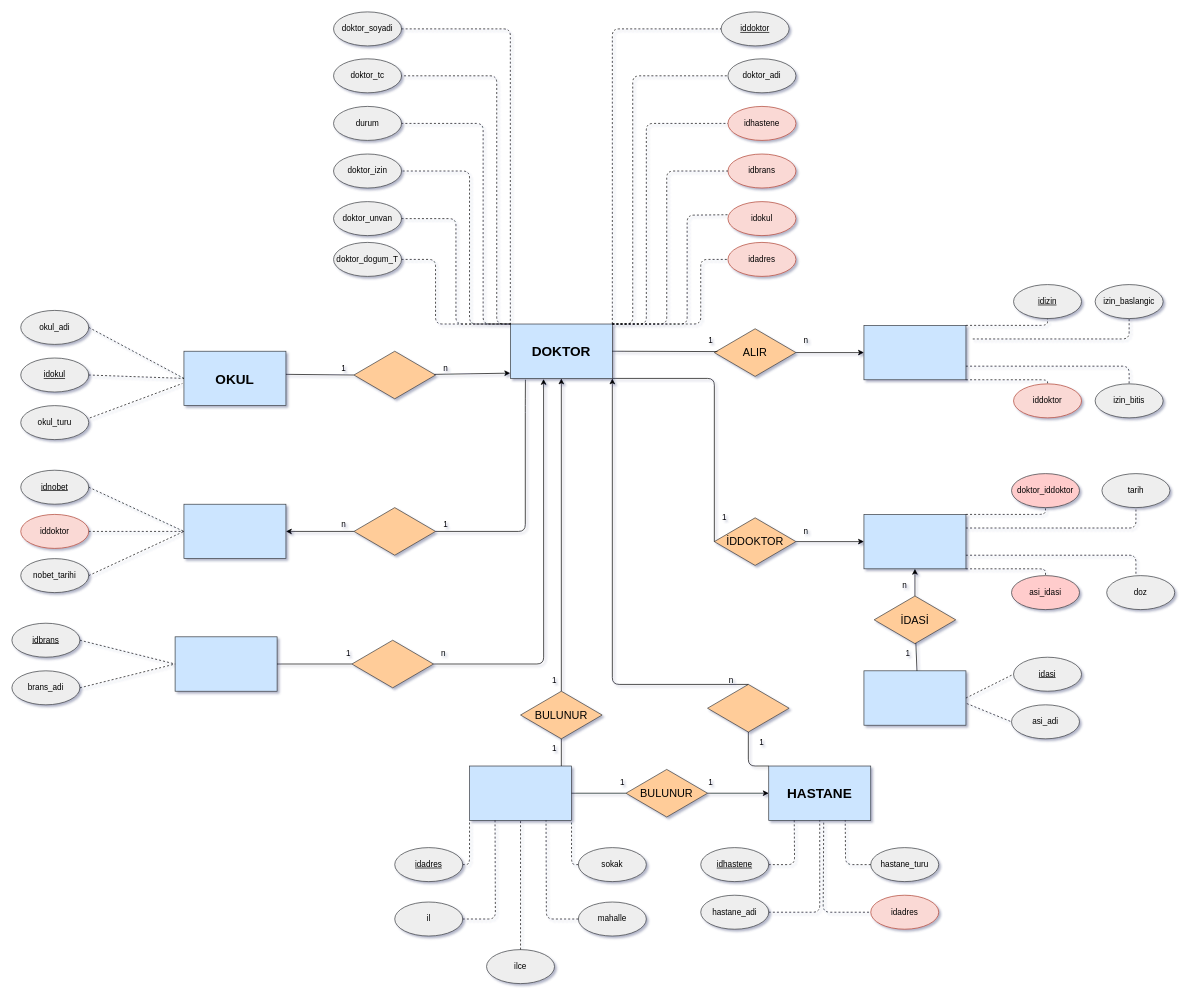
Some shapes in this 1191 by 1000 pixel diagram are drawn without their labels. Each missing label, with the centre of its shape:
"ADRES" goes at point 520,792.
"AŞI" goes at point 914,697.
"BRANŞ" goes at point 225,663.
"DOKTOR_AŞI_VURULUR" goes at point 914,541.
"İZİN" goes at point 914,352.
"MEZUN" goes at point 394,375.
"NOBET" goes at point 234,531.
"SEÇİLİ" goes at point 392,664.
"TUTAR" goes at point 394,531.
"ÇALIŞIR" goes at point 748,708.
